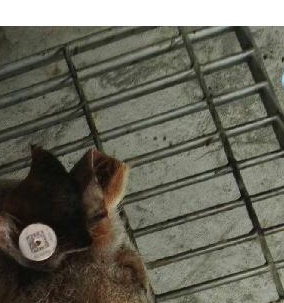text: (8, 207, 70, 273)
